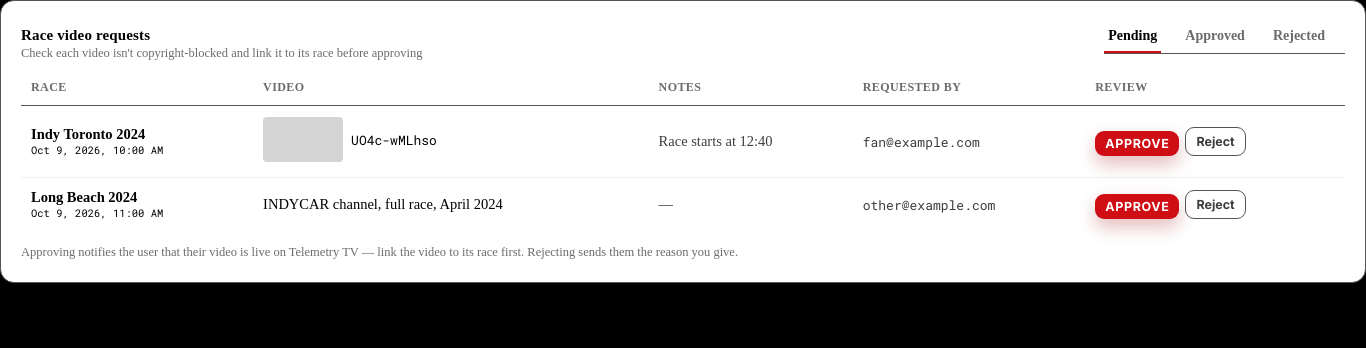
Test: rejecting needs the reason the user will be told
Click the button with aria-label "Reject Long Beach 2024".
click(1216, 204)  # box [1185,190,1246,219]
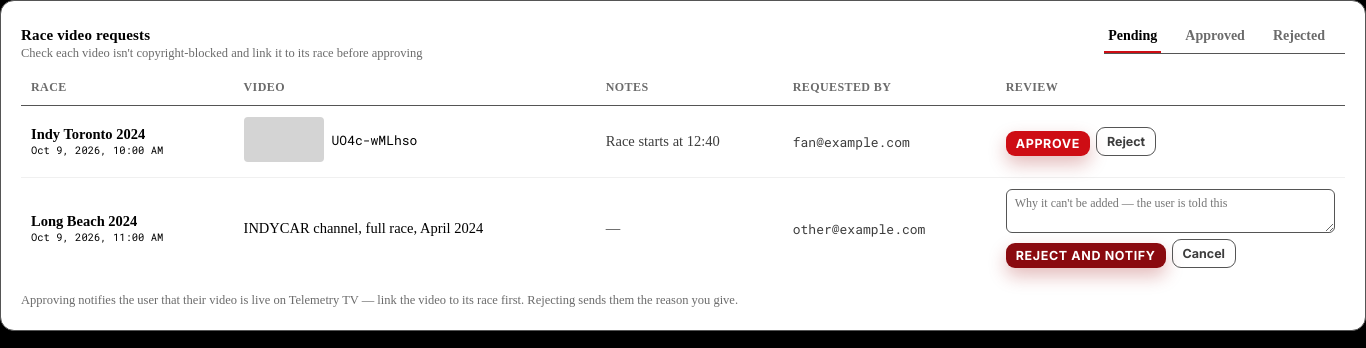
Check: the button "Reject and notify" is disabled, box [1006,243,1166,268]
Type "Blocked for copyright in most regions." into the text box named "Reason for rejecting Long Beach 2024".
click(1170, 211); type("Blocked for copyright in most regions.")  # box [1006,189,1335,233]
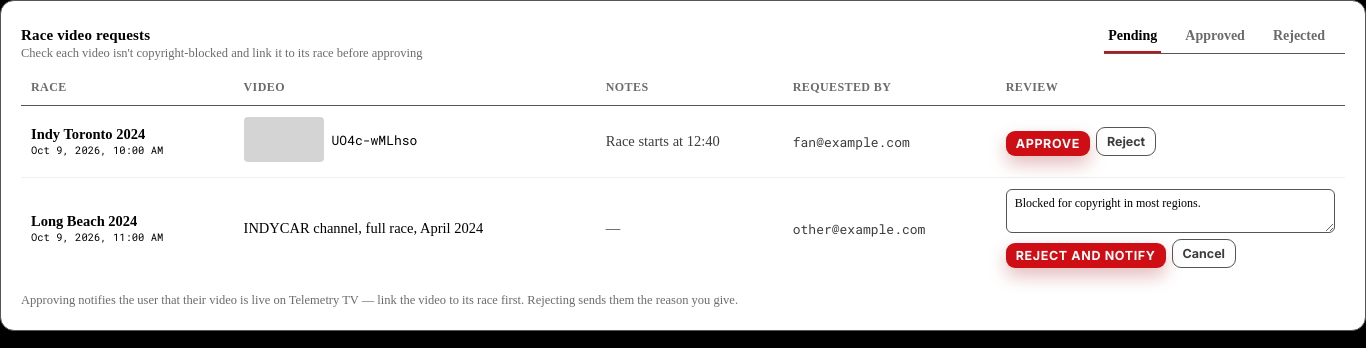
Click the button "Reject and notify".
click(1086, 256)  # box [1006,243,1166,268]
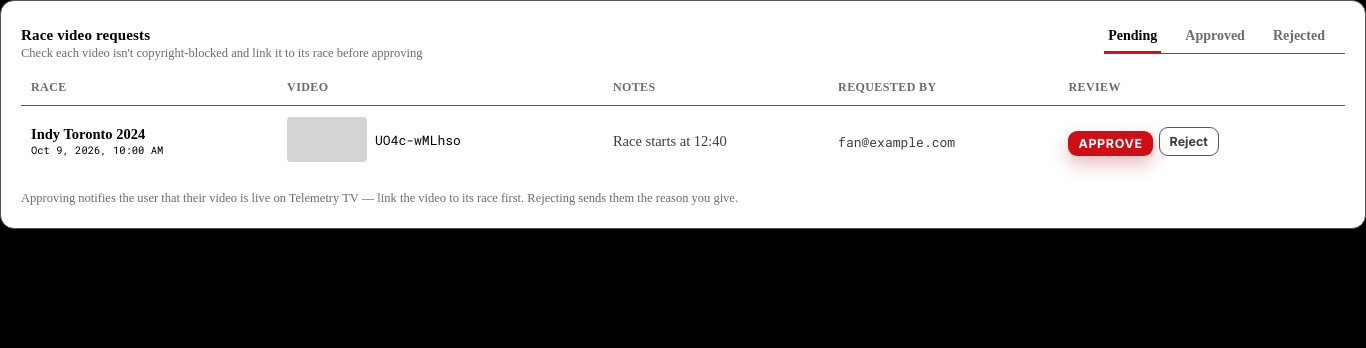
Check: the text "Long Beach 2024" is gone
